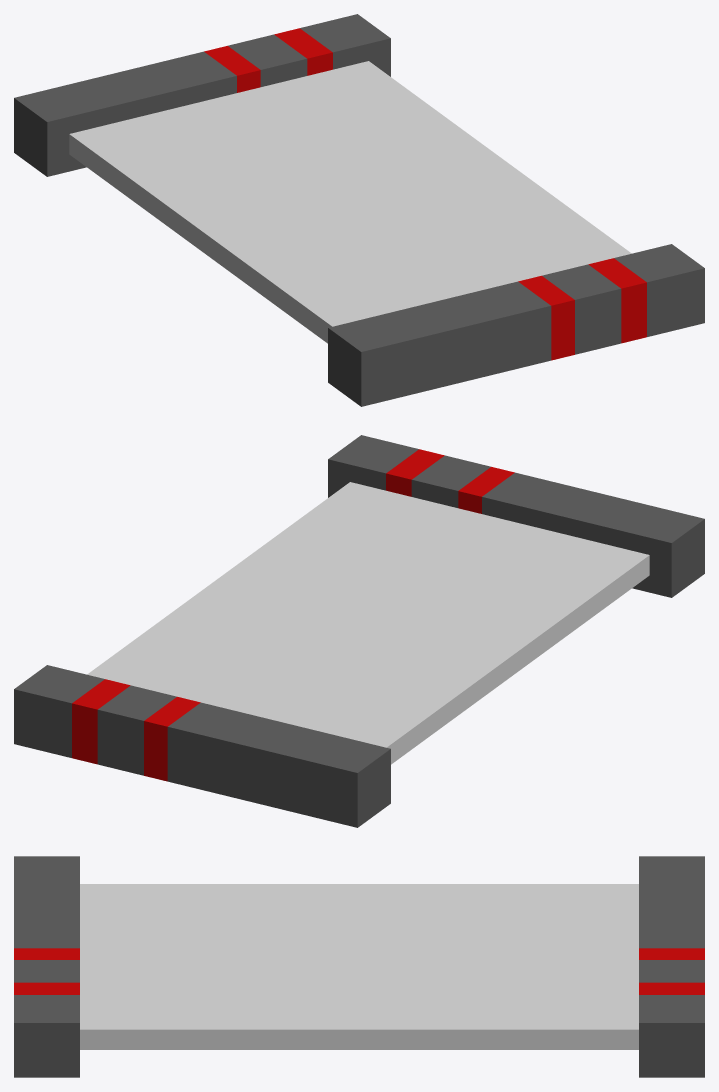
File: scan2.fbx
3 views of the same model, one above another, from view 1: azimuth 30°, elevation 25°; view 2: azimuth 150°, elevation 25°; view 3: azimuth 270°, elevation 25° (orthographic).
Parts seen in each view (by area): view 1: Cube.002, Cube.001, Cube; view 2: Cube.002, Cube, Cube.001; view 3: Cube.002, Cube, Cube.001.
Boxes of the visible parts, x1,y1,x2,y2 form: Cube.002: [69, 61, 631, 343]; Cube.001: [328, 244, 704, 406]; Cube: [14, 14, 390, 176]; Cube.002: [87, 482, 649, 764]; Cube: [14, 665, 390, 827]; Cube.001: [328, 435, 704, 597]; Cube.002: [80, 884, 638, 1049]; Cube: [639, 856, 704, 1077]; Cube.001: [14, 856, 79, 1077].
Bounding box in the file's own units: 200 × 30.51 × 350.
